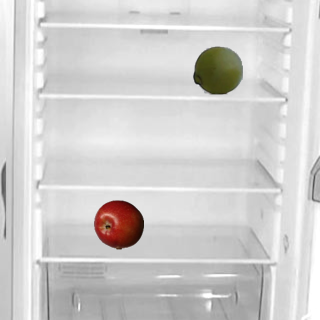Apple Braeburn: (93, 199, 143, 249)
Grape White 4: (192, 44, 242, 94)
